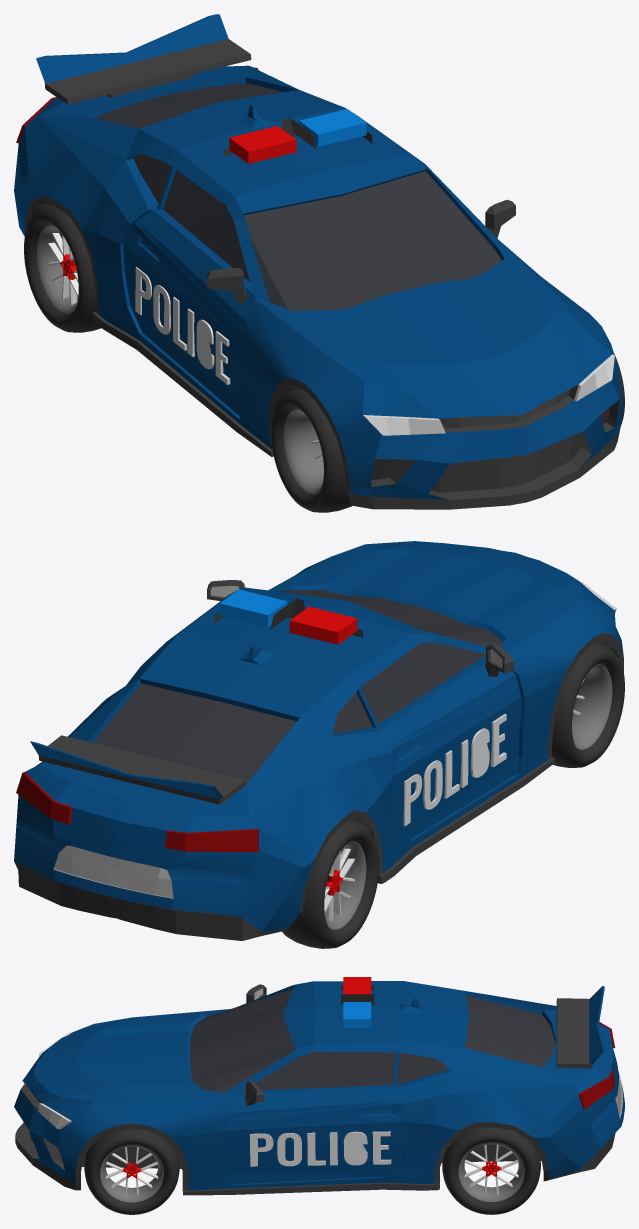
Rendered from Super Police Car.fbx.
The picture shows the model from 3 angles, top to bottom: view 1: azimuth 30°, elevation 25°; view 2: azimuth 150°, elevation 25°; view 3: azimuth 270°, elevation 25°; orthographic projection. The views are drawn at different scales.
Parts seen in each view (by area): view 1: polySurface59, polySurface43, polySurface65, Back, Tier (×2), pPipe4 (×2), Police_Lights, Left_Side_Police_Text, polySurface41, pCube871, Left_Side_Mirror, Right_Side_Mirror; view 2: polySurface59, polySurface43, polySurface65, Tier (×2), Back, pPipe4 (×2), Police_Lights, Left_Side_Police_Text, polySurface45, polySurface49, pCube871, Left_Side_Mirror (+1 smaller); view 3: polySurface59, polySurface43, Tier (×2), polySurface65, Back, Right_Side_Police_Text, pPipe4 (×2), pCube871 (×2), Police_Lights, polySurface49, polySurface41, Right_Side_Mirror.
Part boxes in pixels (x1=…): polySurface59: x1=14, y1=65, x2=622, y2=499; polySurface43: x1=94, y1=83, x2=502, y2=310; polySurface65: x1=25, y1=195, x2=619, y2=509; Back: x1=36, y1=14, x2=251, y2=104; Tier (×2): x1=24, y1=204, x2=352, y2=512; pPipe4 (×2): x1=37, y1=225, x2=323, y2=494; Police_Lights: x1=223, y1=109, x2=372, y2=163; Left_Side_Police_Text: x1=135, y1=267, x2=230, y2=384; polySurface41: x1=363, y1=354, x2=614, y2=435; pCube871: x1=48, y1=233, x2=78, y2=305; Left_Side_Mirror: x1=207, y1=268, x2=247, y2=305; Right_Side_Mirror: x1=485, y1=199, x2=515, y2=238; polySurface59: x1=14, y1=541, x2=623, y2=931; polySurface43: x1=93, y1=590, x2=503, y2=783; polySurface65: x1=14, y1=633, x2=623, y2=940; Tier (×2): x1=282, y1=642, x2=624, y2=948; Back: x1=30, y1=735, x2=245, y2=804; pPipe4 (×2): x1=324, y1=664, x2=612, y2=929; Police_Lights: x1=214, y1=589, x2=362, y2=644; Left_Side_Police_Text: x1=403, y1=714, x2=506, y2=826; polySurface45: x1=53, y1=845, x2=173, y2=898; polySurface49: x1=16, y1=772, x2=259, y2=851; pCube871: x1=324, y1=848, x2=354, y2=921; Left_Side_Mirror: x1=485, y1=642, x2=513, y2=677; polySurface59: x1=14, y1=981, x2=624, y2=1190; polySurface43: x1=190, y1=989, x2=554, y2=1092; Tier (×2): x1=84, y1=1127, x2=540, y2=1214; polySurface65: x1=15, y1=1084, x2=615, y2=1195; Back: x1=556, y1=986, x2=604, y2=1068; Right_Side_Police_Text: x1=250, y1=1131, x2=391, y2=1166; pPipe4 (×2): x1=100, y1=1142, x2=524, y2=1202; pCube871 (×2): x1=106, y1=1145, x2=518, y2=1195; Police_Lights: x1=341, y1=977, x2=373, y2=1028; polySurface49: x1=578, y1=1022, x2=615, y2=1109; polySurface41: x1=38, y1=1032, x2=71, y2=1129; Right_Side_Mirror: x1=245, y1=1080, x2=263, y2=1106.
Size of what is drawn, in the model's own units: 31.29 by 22.91 by 73.83.
